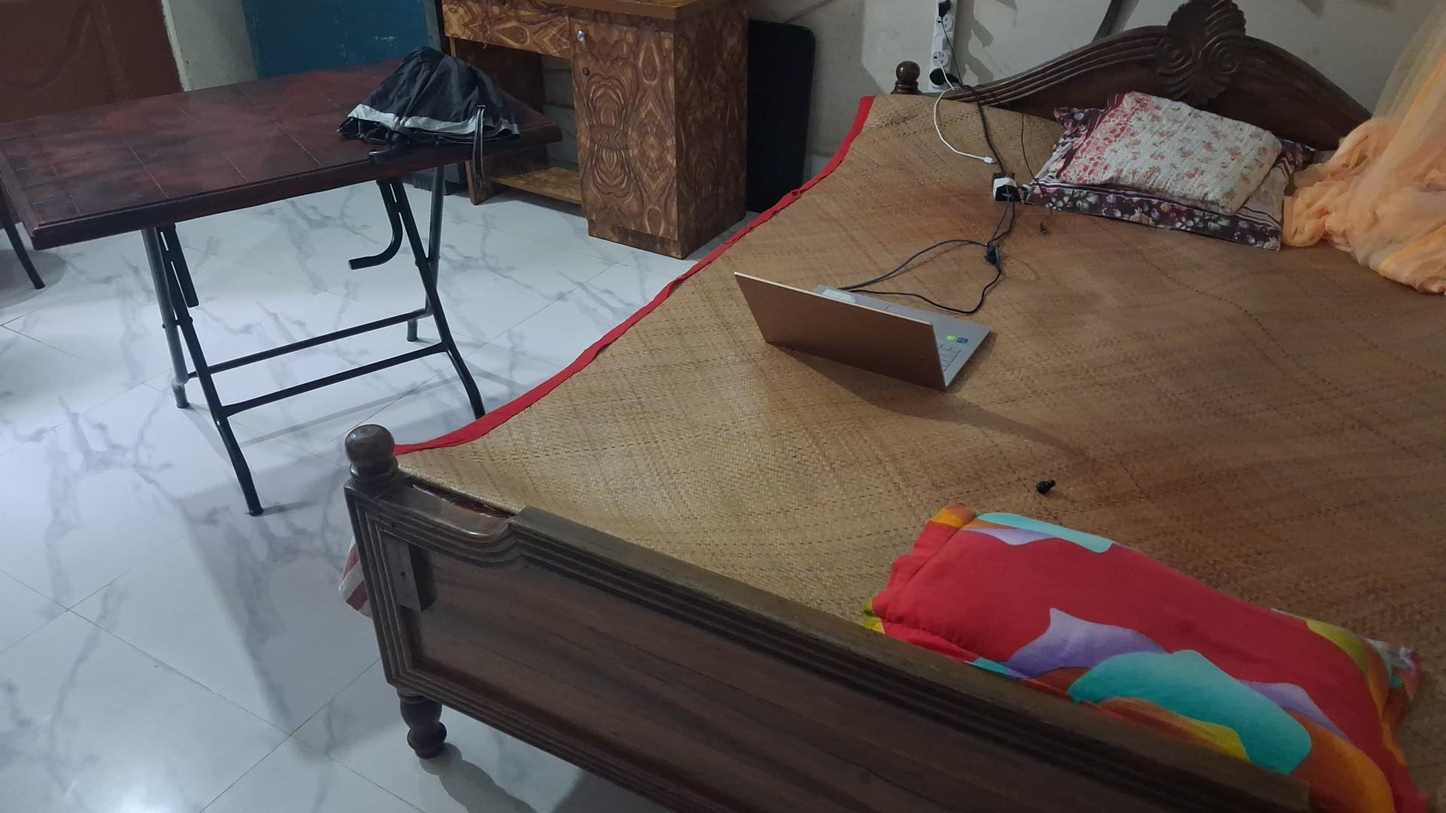Blanket: (1055, 88, 1280, 214)
Laptop: (726, 268, 993, 387)
Pillow: (858, 509, 1419, 812)
Table: (2, 76, 566, 507)
Umbrella: (341, 50, 533, 191)
